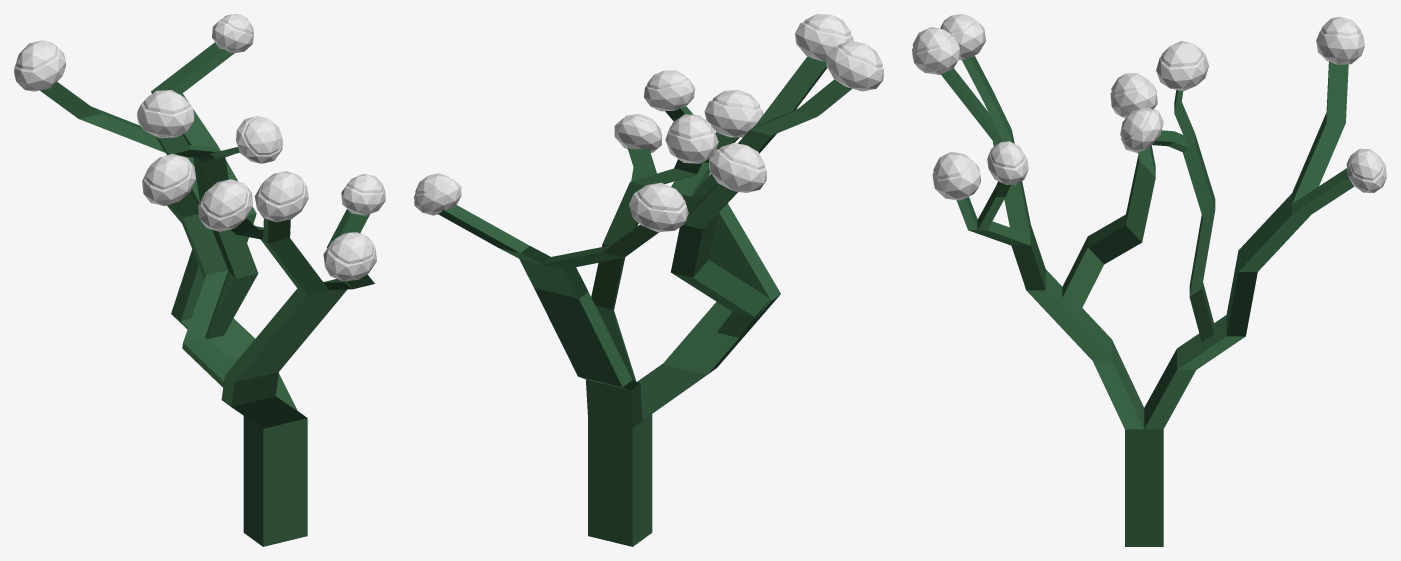
File: babysbreath.fbx
The picture shows the model from 3 angles, left to right: view 1: azimuth 30°, elevation 25°; view 2: azimuth 150°, elevation 25°; view 3: azimuth 270°, elevation 25°; orthographic projection.
Parts seen in each view (by area): view 1: Baby'sBreathHead.003; view 2: Baby'sBreathHead.003; view 3: Baby'sBreathHead.003.
Boxes of the visible parts, <box> form: Baby'sBreathHead.003: <box>14,14,385,546</box>; Baby'sBreathHead.003: <box>414,14,883,546</box>; Baby'sBreathHead.003: <box>912,14,1386,546</box>.
Bounding box in the file's own units: 407 × 699 × 655.
